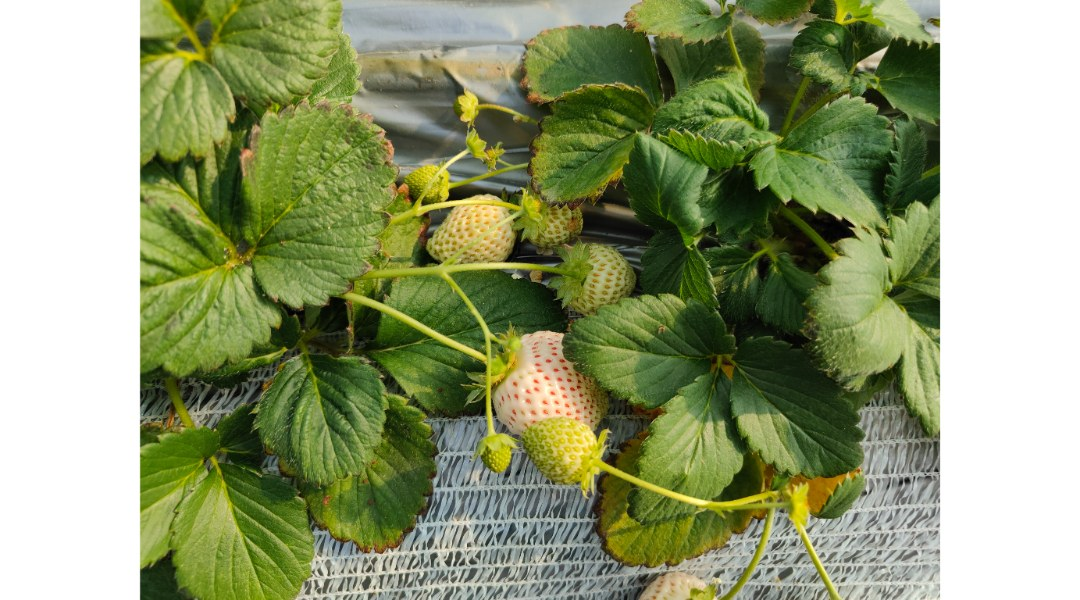berry: (479, 329, 618, 442), (418, 192, 517, 268), (548, 237, 635, 320), (524, 414, 606, 489), (628, 555, 752, 600), (522, 173, 581, 250), (475, 428, 515, 476), (445, 91, 483, 128), (462, 130, 484, 164), (486, 144, 506, 168)
strain: (341, 290, 482, 365), (596, 462, 768, 501), (792, 527, 841, 600), (443, 276, 500, 338), (396, 194, 523, 220), (728, 518, 767, 598), (343, 262, 570, 272), (483, 334, 496, 436)
